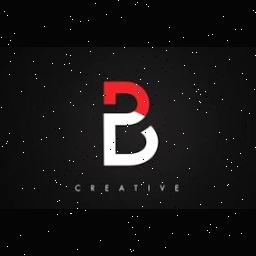b: (96, 76, 160, 172)
